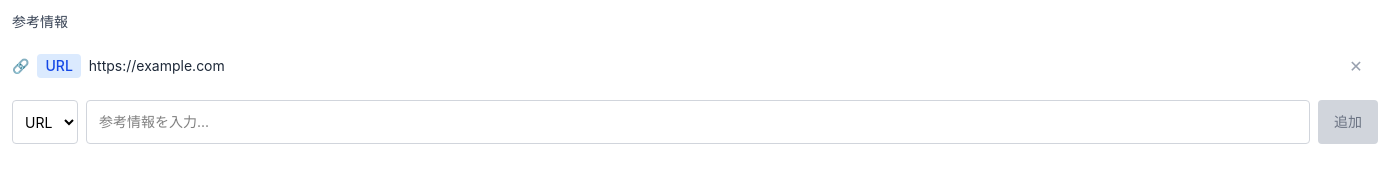
Test case: ReferenceEditor › インライン編集 › 編集をキャンセルすると元の表示に戻る
The width and height of the screenshot is (1390, 172).
What coordinates should you click on to do the following:
click the button with test id "reference-item-0"
I would click on:
 (157, 66)
Its box is left=89, top=44, right=1326, bottom=88.
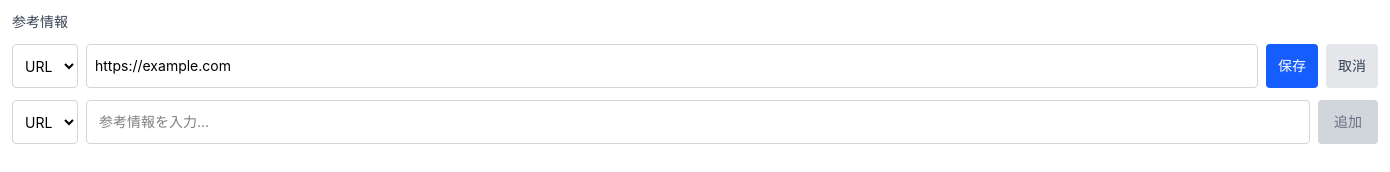
Expected: the element with test id "reference-edit-form-0" is shown, left=12, top=44, right=1378, bottom=88
What coordinates should you click on to do the following:
click the button with test id "reference-edit-cancel-0"
I would click on:
 (1352, 66)
Its box is left=1326, top=44, right=1378, bottom=88.
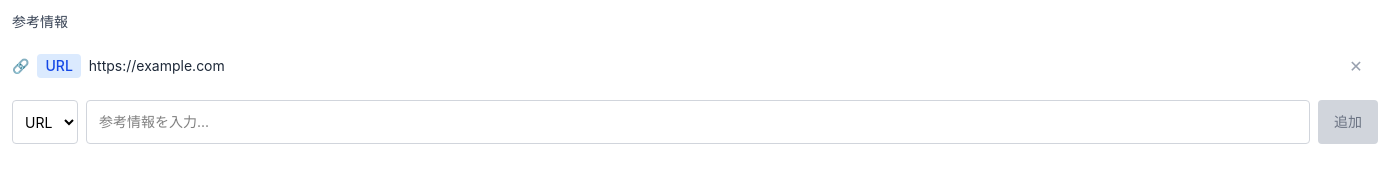
Expected: the element with test id "reference-edit-form-0" is gone
Expected: the button with test id "reference-item-0" is shown, left=89, top=44, right=1326, bottom=88
